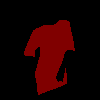vestito: (24, 19, 74, 95)
